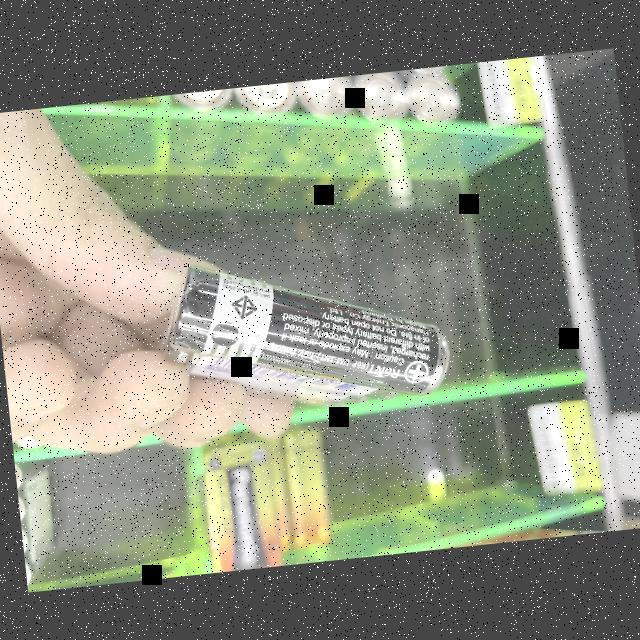battery: (156, 238, 468, 424)
